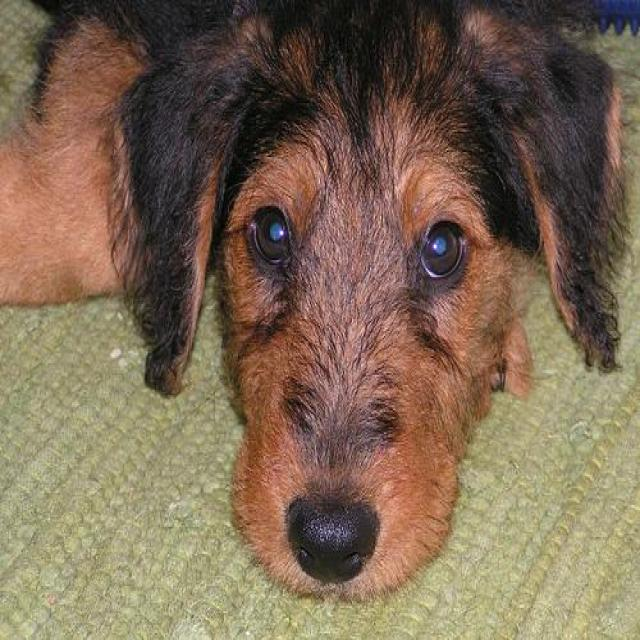airedale: (0, 0, 626, 599)
